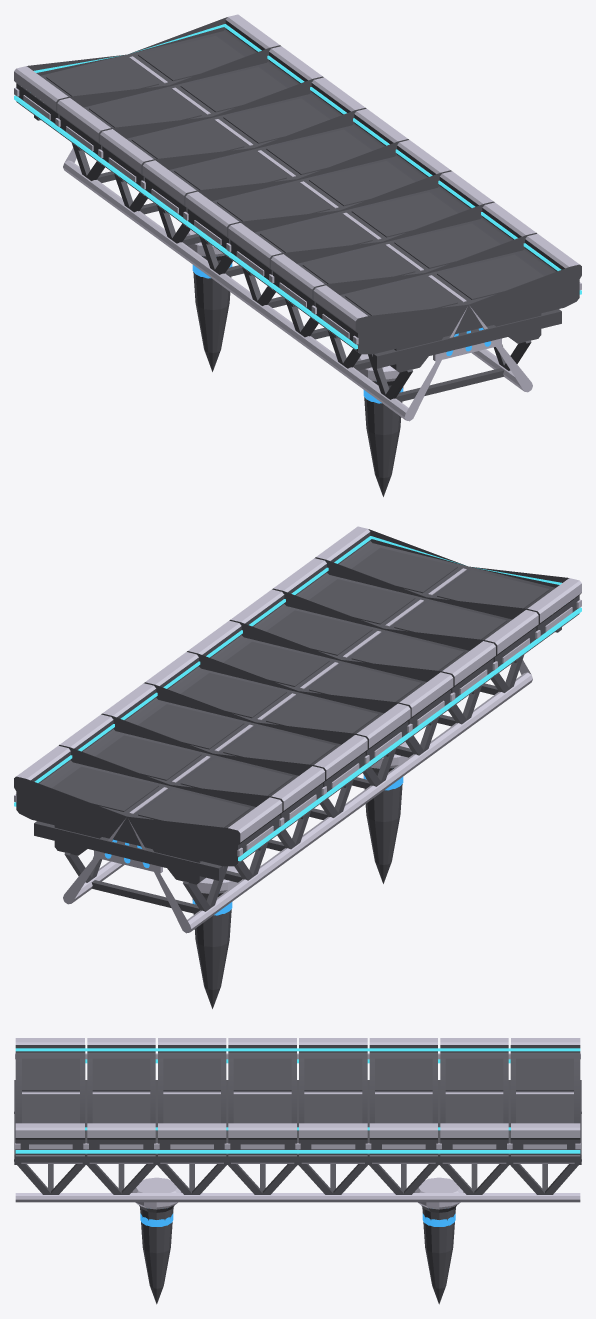
The model's file is Bridge_Span_8m_quest.glb.
3 views of the same model, one above another, from view 1: azimuth 30°, elevation 25°; view 2: azimuth 150°, elevation 25°; view 3: azimuth 270°, elevation 25° (orthographic). The views are drawn at different scales.
Parts seen in each view (by area): view 1: Bridge_Span_8m_Deck, Bridge_Span_8m_Pylons, Bridge_Span_8m_EdgeLight; view 2: Bridge_Span_8m_Deck, Bridge_Span_8m_Pylons, Bridge_Span_8m_EdgeLight; view 3: Bridge_Span_8m_Deck, Bridge_Span_8m_Pylons, Bridge_Span_8m_EdgeLight, Bridge_Span_8m_Conduits.
Boxes of the visible parts, x1,y1,x2,y2 form: Bridge_Span_8m_Deck: (14, 14, 581, 421); Bridge_Span_8m_Pylons: (186, 230, 403, 496); Bridge_Span_8m_EdgeLight: (14, 24, 581, 349); Bridge_Span_8m_Deck: (14, 526, 581, 933); Bridge_Span_8m_Pylons: (192, 742, 409, 1008); Bridge_Span_8m_EdgeLight: (14, 536, 581, 861); Bridge_Span_8m_Deck: (14, 1038, 581, 1202); Bridge_Span_8m_Pylons: (131, 1177, 464, 1304); Bridge_Span_8m_EdgeLight: (15, 1048, 580, 1153); Bridge_Span_8m_Conduits: (140, 1213, 455, 1226).
Bounding box in the file's own units: 3.06 × 3.47 × 8.05.
